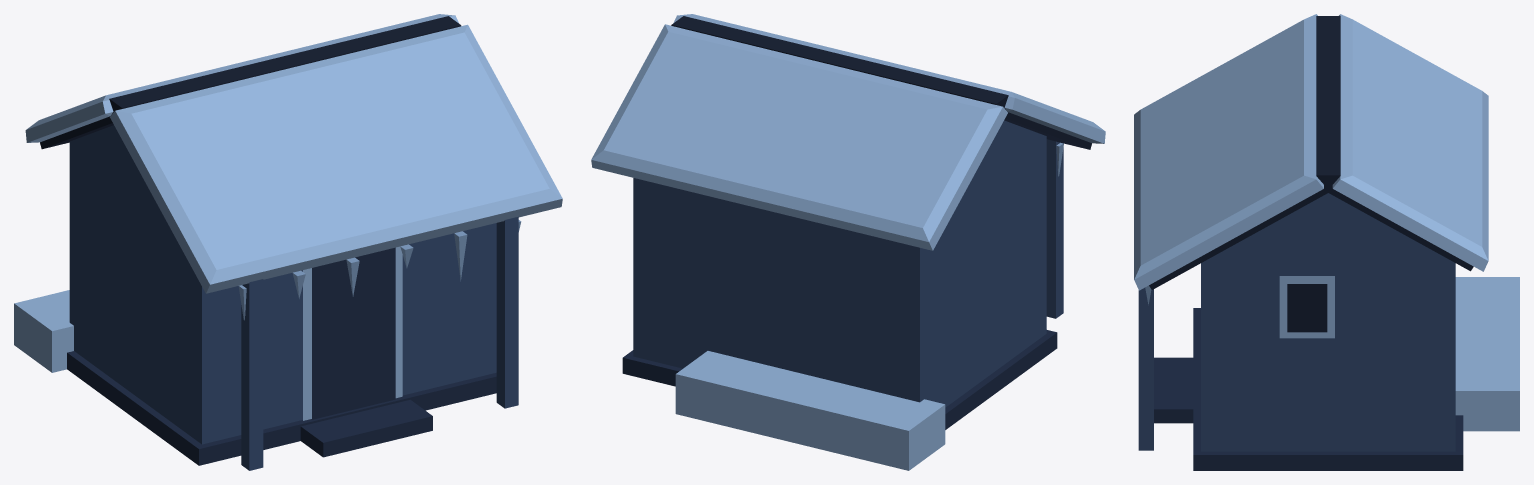
Rendered from tool_shed.glb.
3 renders of one model, left to right at view 1: azimuth 30°, elevation 25°; view 2: azimuth 150°, elevation 25°; view 3: azimuth 270°, elevation 25°, orthographic. The views are drawn at different scales.
Visible parts, largest first — view 1: Tool_Shed; view 2: Tool_Shed; view 3: Tool_Shed.
Part boxes in pixels (bbox=[...]): Tool_Shed: bbox=[14, 14, 562, 470]; Tool_Shed: bbox=[591, 14, 1105, 470]; Tool_Shed: bbox=[1134, 14, 1519, 470].
Size of the model in its own units: 3.57 by 3.01 by 3.49.
